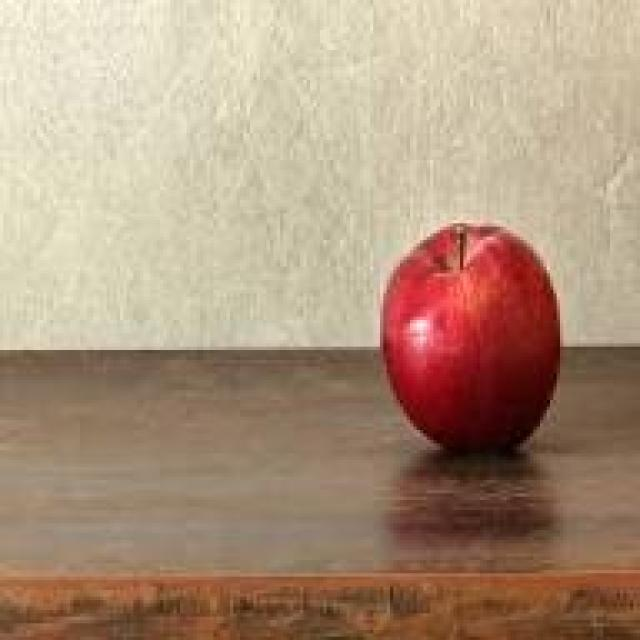apple: (376, 210, 566, 483)
